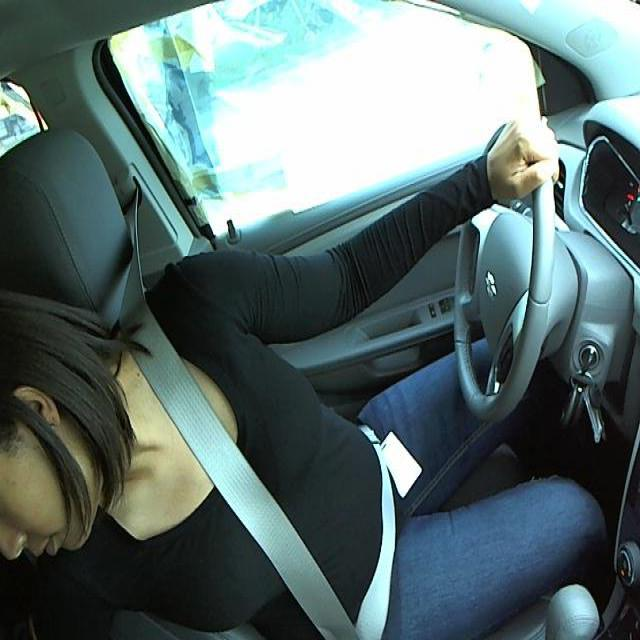seatbelt: (101, 338, 398, 638)
